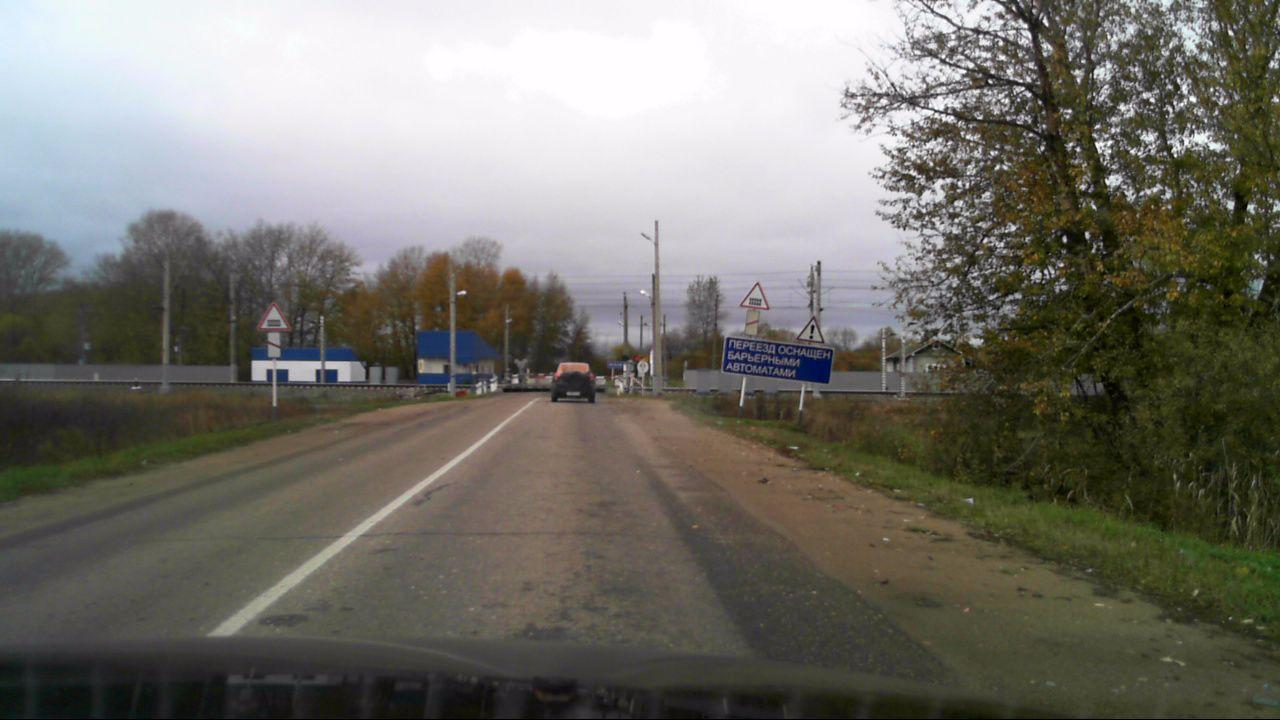1_1: (739, 280, 771, 311), (257, 302, 291, 331)
1_33: (795, 315, 825, 346)
1_4_3: (744, 309, 760, 335)
1_4_6: (266, 332, 281, 358)
3_13: (637, 360, 649, 373)
